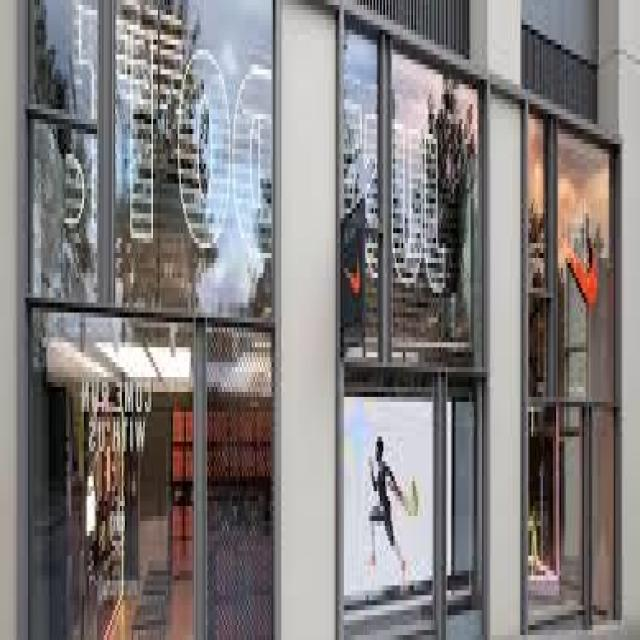nike: (560, 222, 603, 306), (388, 456, 422, 524), (339, 244, 367, 306)
